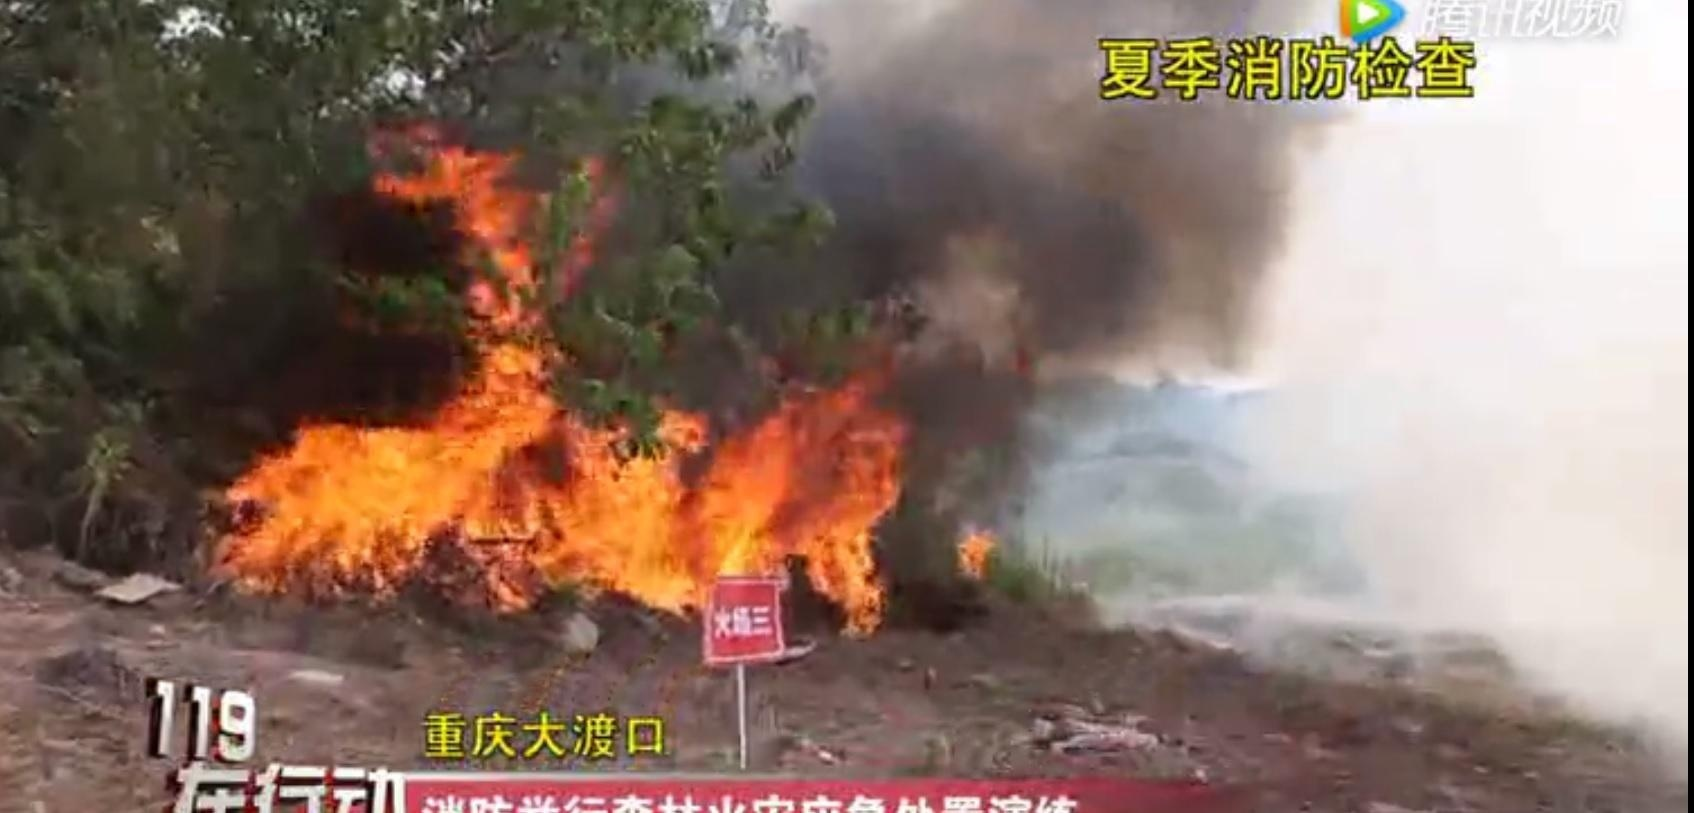fire: (203, 128, 927, 635), (958, 523, 999, 574)
